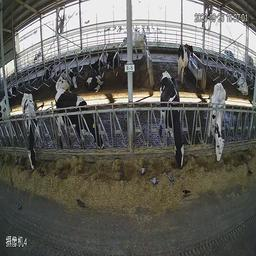cow: (54, 88, 105, 153), (158, 69, 184, 170), (19, 92, 39, 172), (209, 82, 227, 161), (119, 33, 145, 60), (177, 43, 194, 84), (84, 59, 105, 92), (56, 68, 77, 94), (233, 70, 249, 96), (105, 48, 119, 71)
